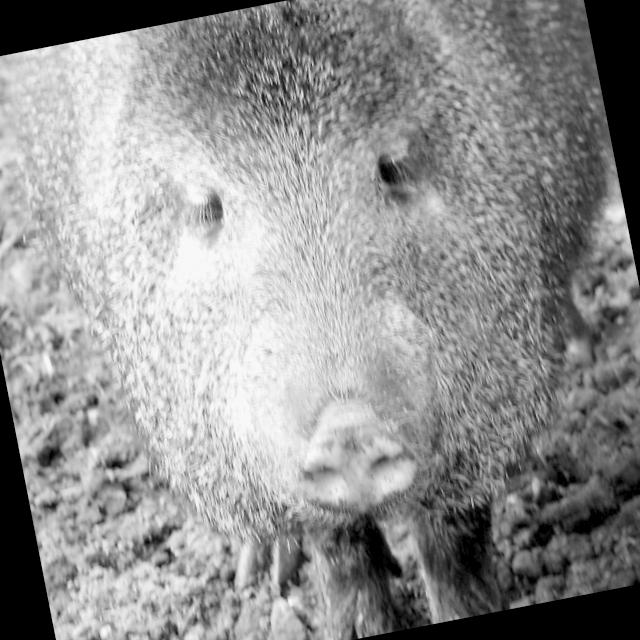pig: (18, 0, 607, 639)
